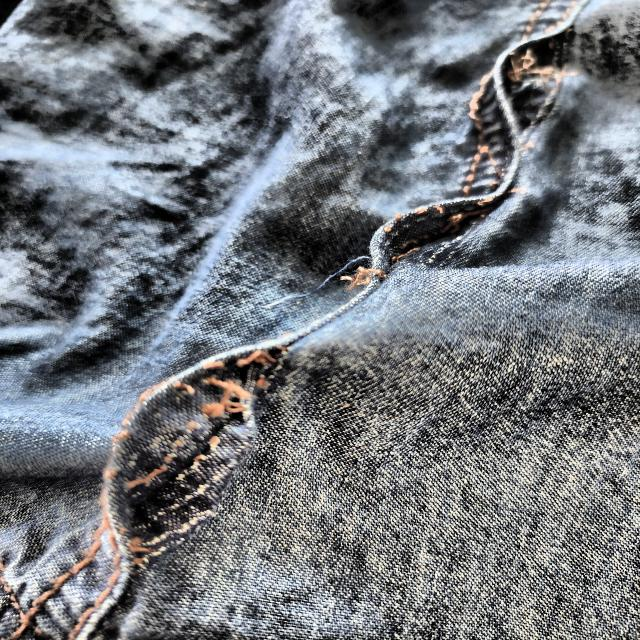seam: (104, 331, 303, 554), (354, 177, 526, 295), (484, 20, 586, 146)
